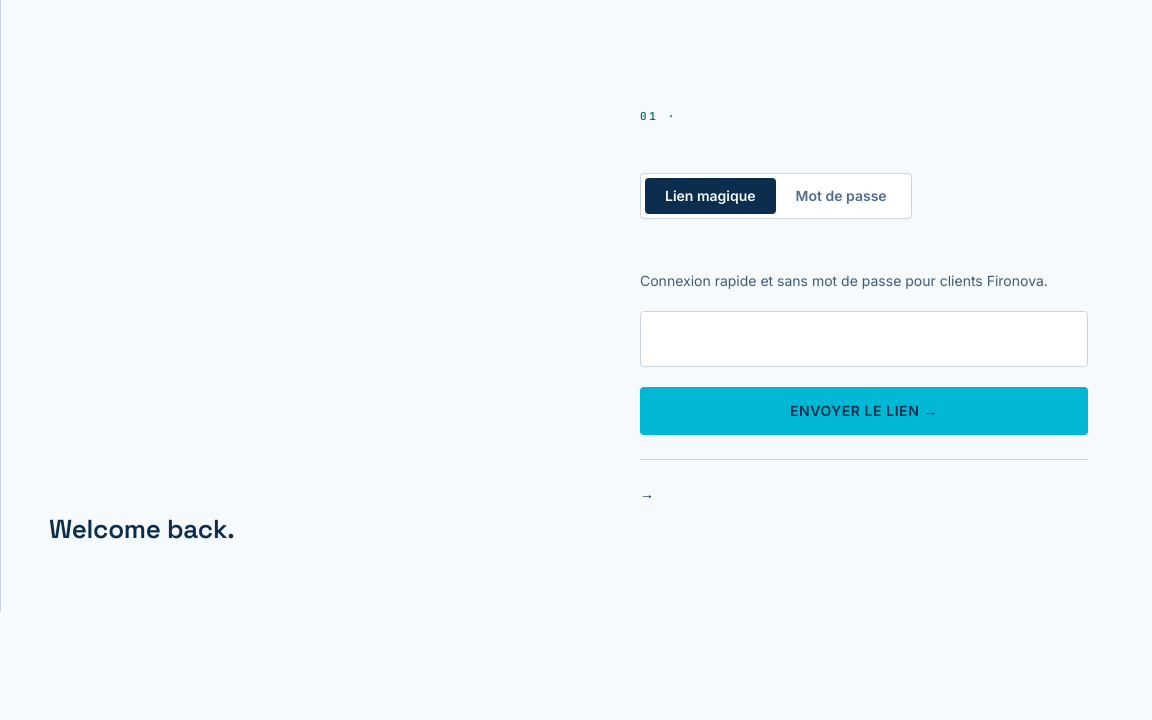
Scenario: on peut toujours renvoyer ou changer d'adresse
Type "mireillel041+lili@gmail.com" into the field with test id "login-magic-email". click: x=864, y=339
box: [640,311,1088,367]
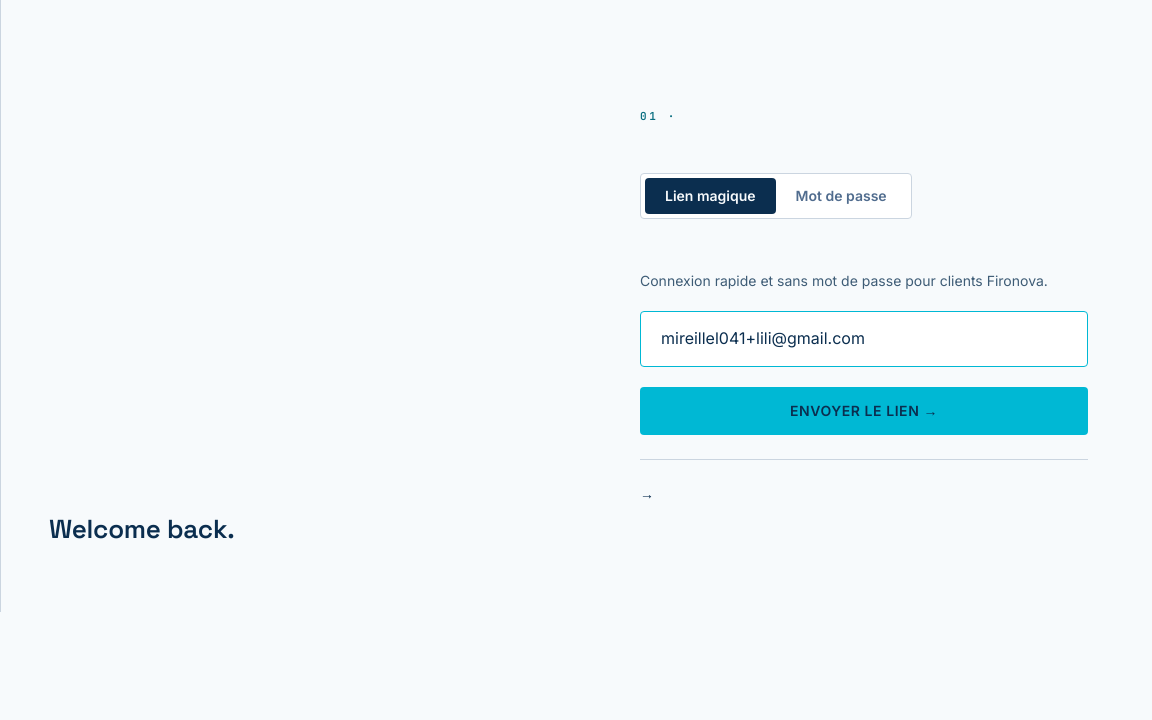
Click the button with test id "login-magic-submit". click: x=864, y=411
box: [640,387,1088,435]
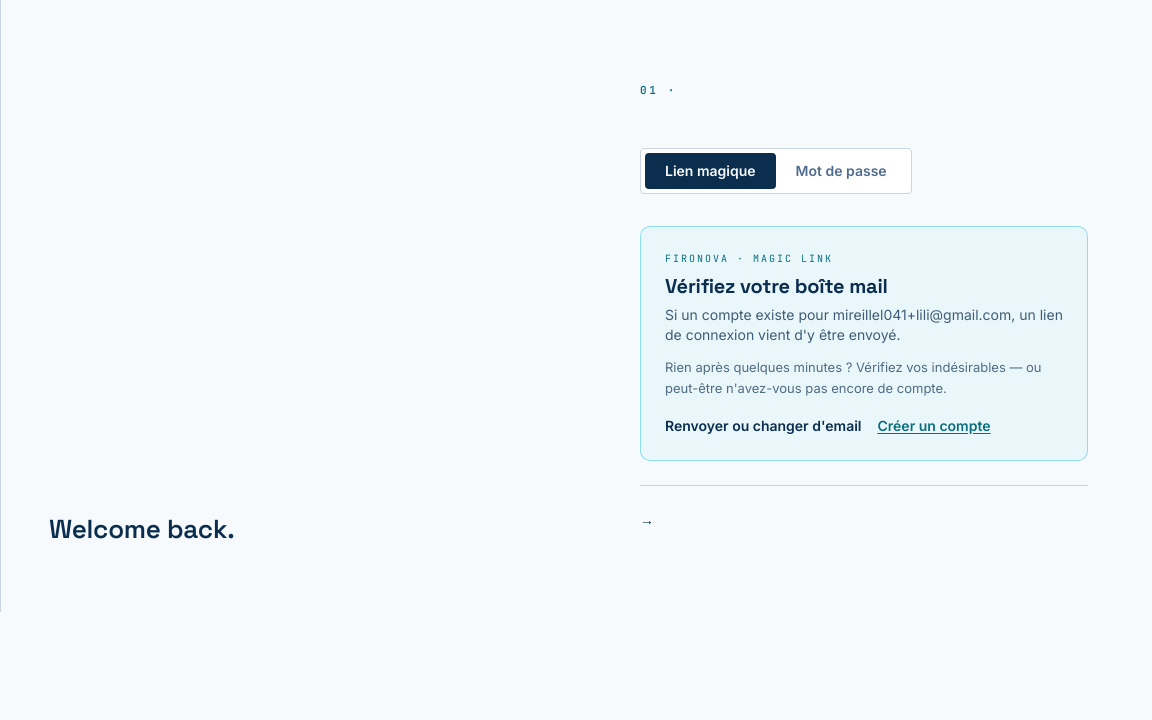
Check: the element with test id "magic-sent" is shown, box [640,226,1088,461]
Click the button "Renvoyer ou changer d'email". click: x=763, y=426
box: [665,416,862,436]
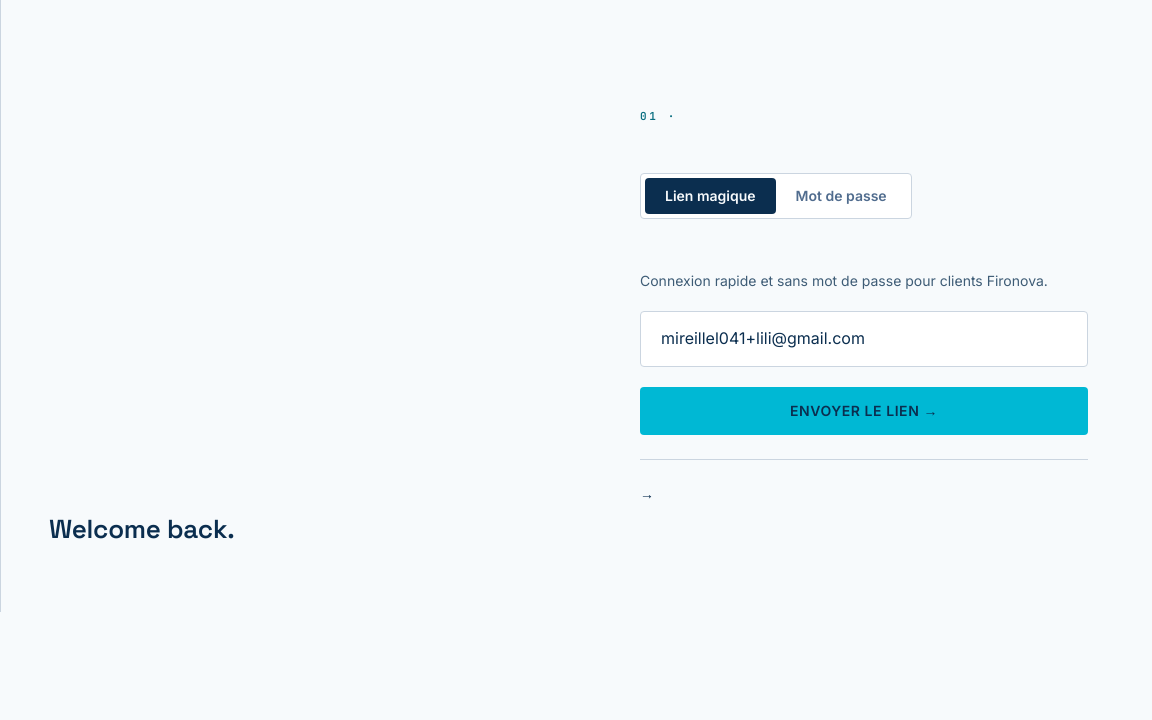
Check: the element with test id "magic-sent" is gone
Check: the field with test id "login-magic-email" is shown, box [640,311,1088,367]
